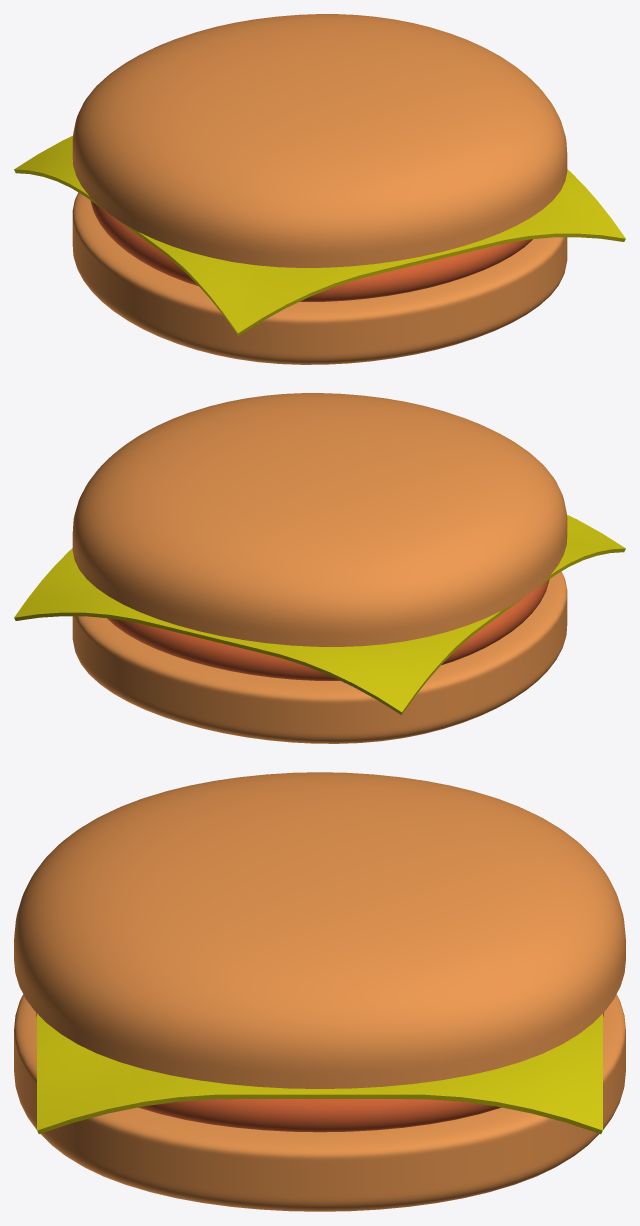
Rendered from hamburger.glb.
3 renders of one model, top to bottom at view 1: azimuth 30°, elevation 25°; view 2: azimuth 150°, elevation 25°; view 3: azimuth 270°, elevation 25°, orthographic. The views are drawn at different scales.
Visible parts, largest first — view 1: Cube.002, Cube, Plane, Cube.001; view 2: Cube.002, Cube, Plane, Cube.001; view 3: Cube.002, Cube, Plane, Cube.001.
Part boxes in pixels (x1,y1,x2,y2): Cube.002: (72,14,567,267); Cube: (72,192,567,364); Plane: (14,136,625,335); Cube.001: (90,200,532,301); Cube.002: (72,393,567,646); Cube: (72,571,567,743); Plane: (14,515,625,714); Cube.001: (107,579,549,680); Cube.002: (14,772,625,1088); Cube: (14,994,625,1211); Plane: (37,1014,602,1133); Cube.001: (36,1012,603,1132).
Size of the model in its own units: 9.01 by 4.19 by 9.01.
